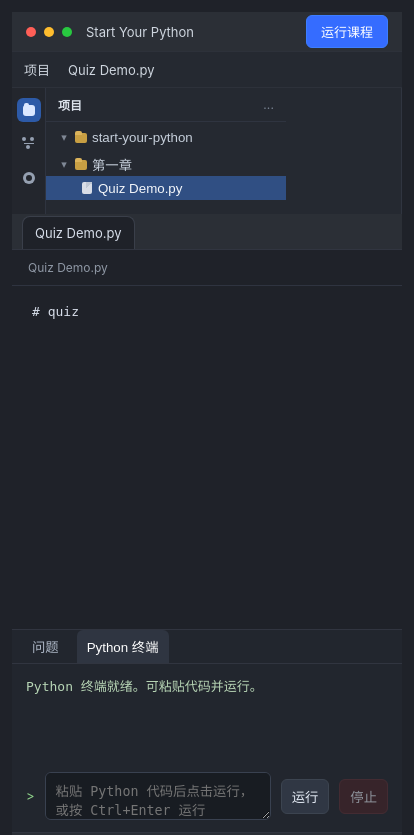
Test: HomeView workspace › marks a quiz step complete after the correct answer in run mode
What coordinates should you click on to do the following:
click the button with test id "run-button"
I would click on:
 (347, 32)
Its box is [306,15,388,48].
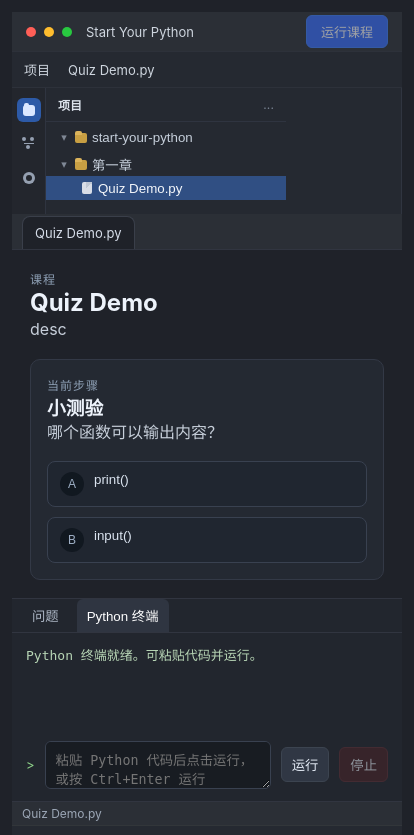
Result: the element with test id "quiz-step" shows "print()"
What coordinates should you click on to do the following:
click the button "a print()"
I would click on:
 (111, 480)
Its box is [47,461,367,507].
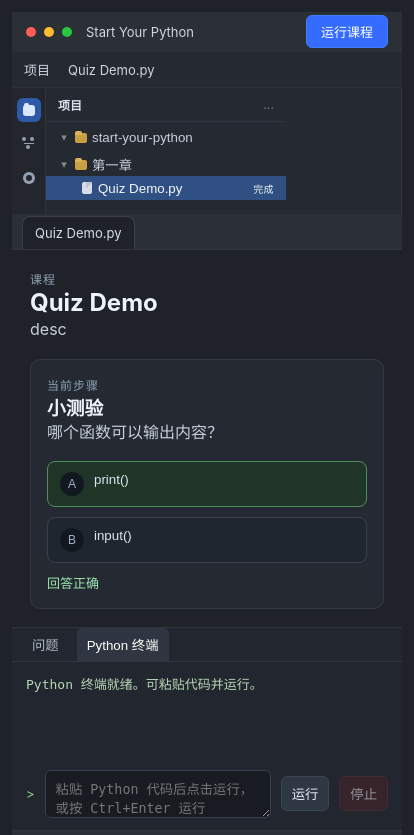
Result: the text "回答正确" is shown at [47,575,99,591]
